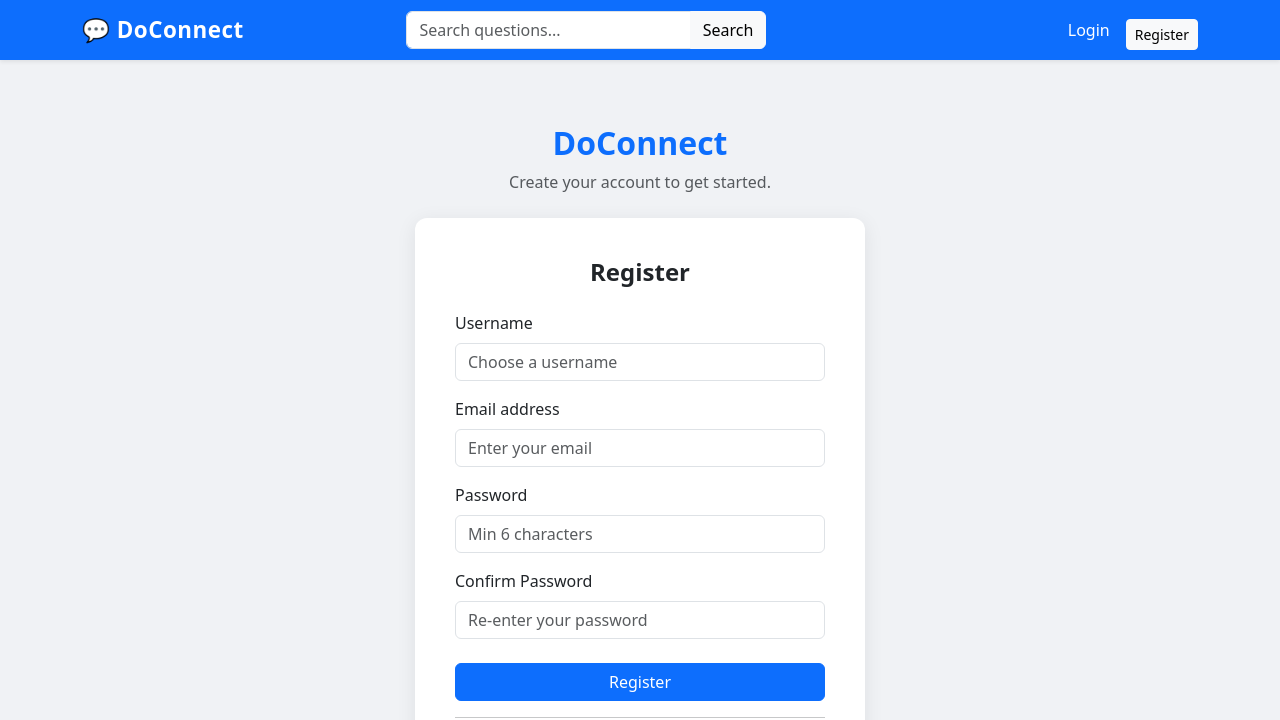
Test case: DoConnect E2E Tests › Register Page › shows error when passwords do not match
Type "testuser" into the field named "username" at (640, 362), box [455,343,825,381]
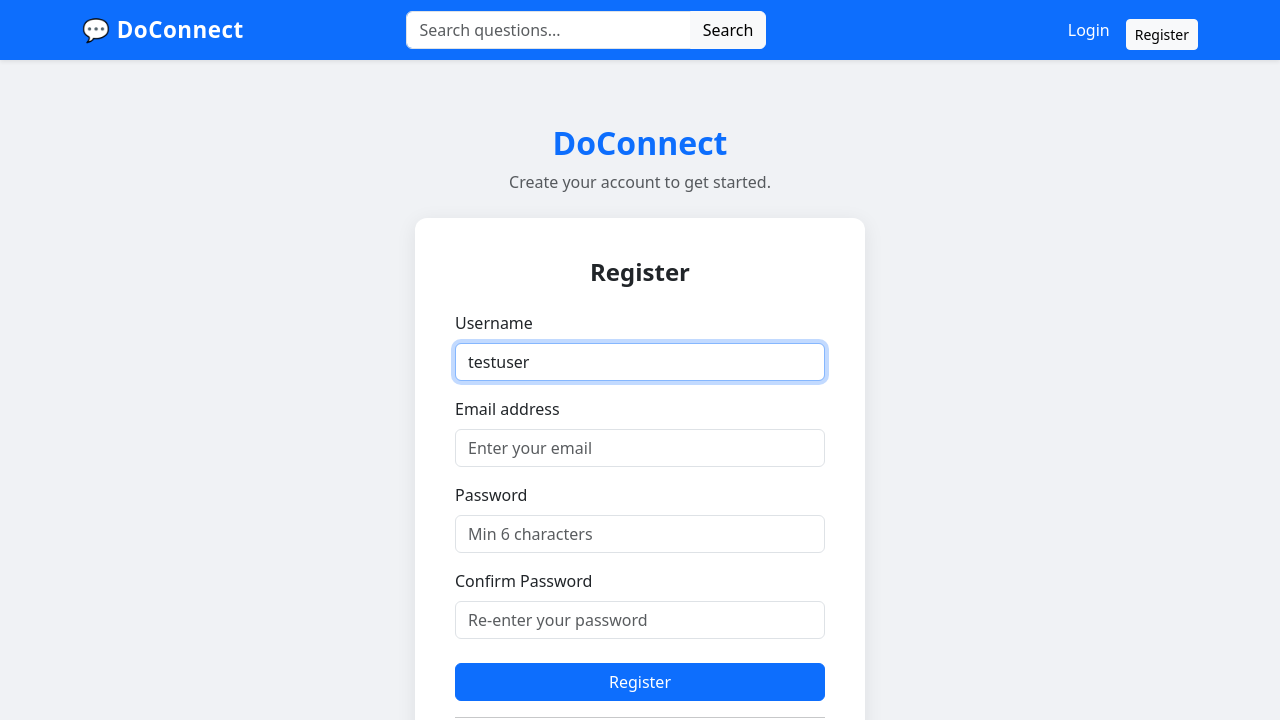
Type "test@test.com" into the field named "email" at (640, 448), box [455,429,825,467]
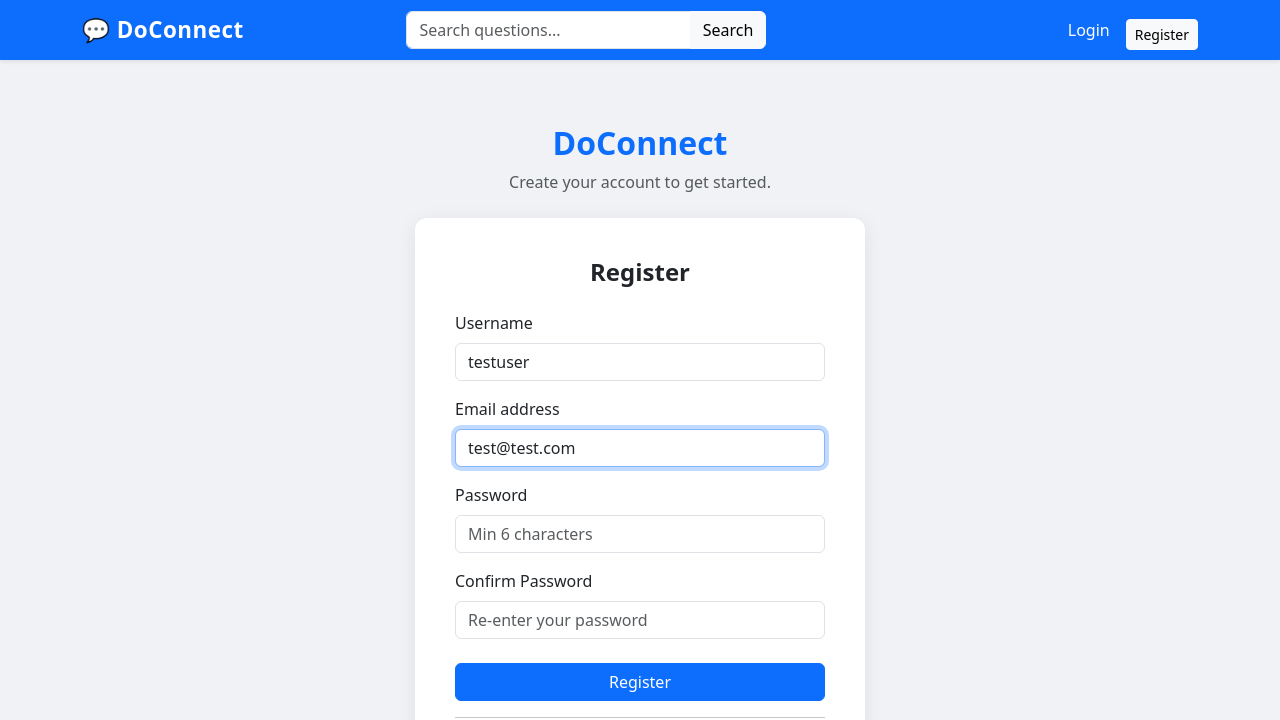
Type "password123" into the password field named "password" at (640, 534), box [455,515,825,553]
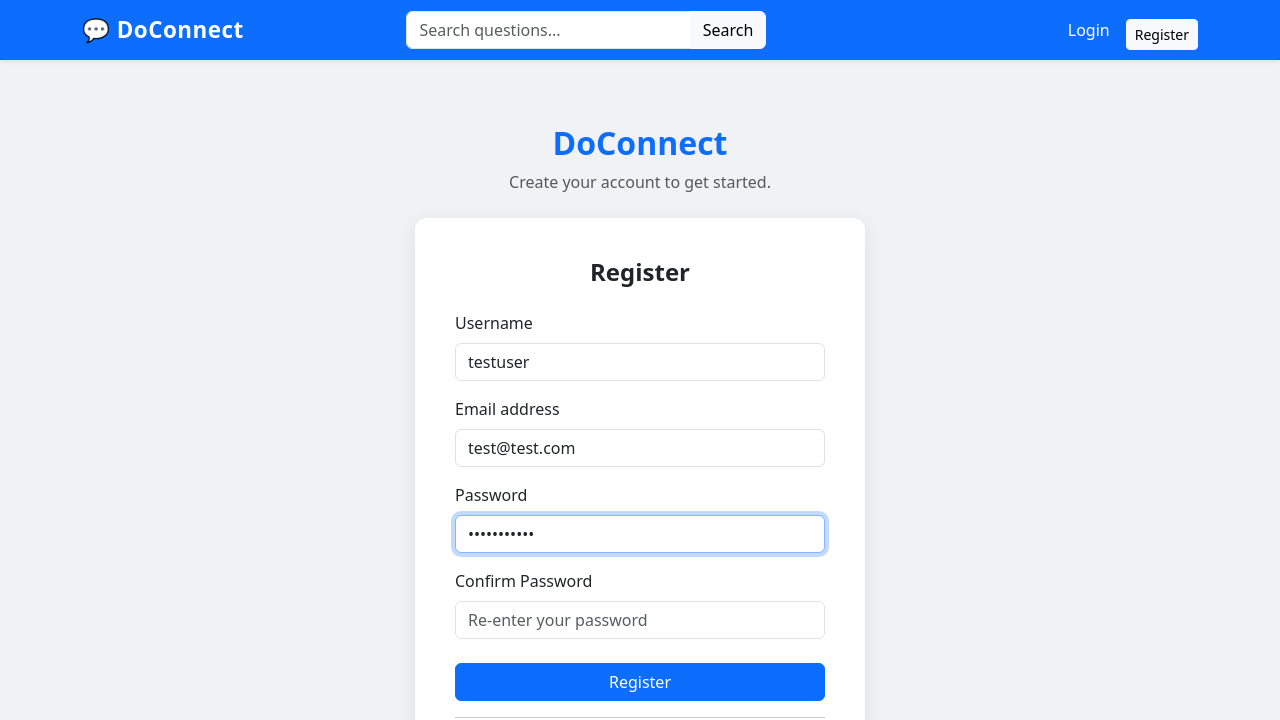
Type "different123" into the password field named "confirmPassword" at (640, 620), box [455,601,825,639]
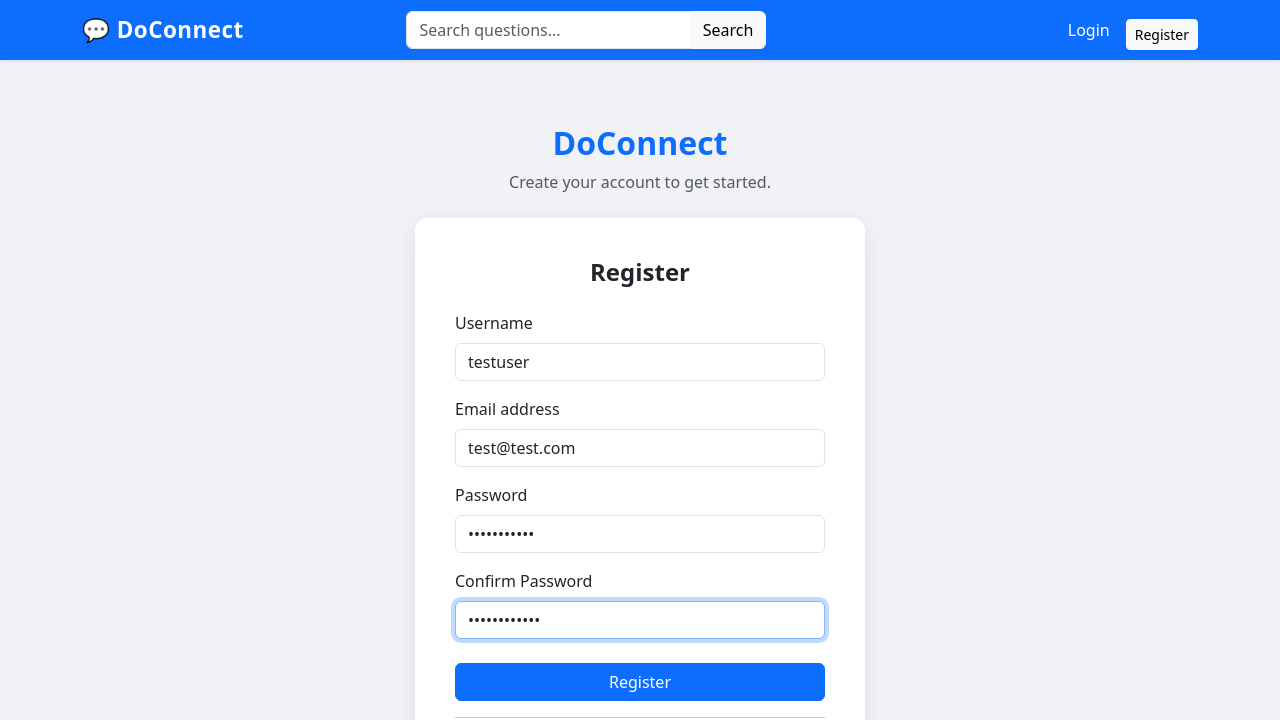
Click the button "Register" below "Confirm Password" at (640, 682), box [455,663,825,701]
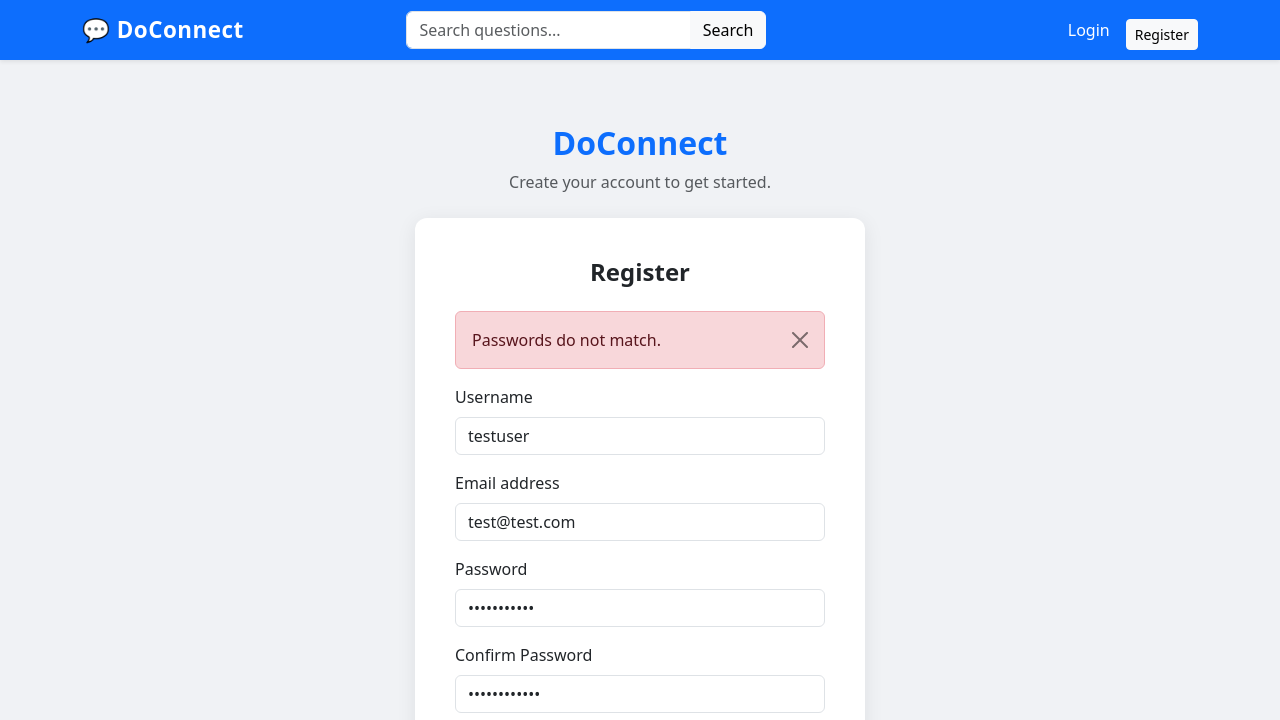
Result: the text "Passwords do not match." is shown at [455,311,825,369]
